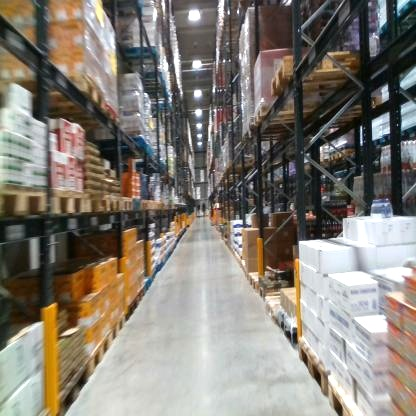pallets: (235, 50, 352, 160), (42, 293, 145, 416), (285, 337, 374, 416), (236, 261, 301, 354), (135, 218, 193, 301), (0, 185, 135, 218)
